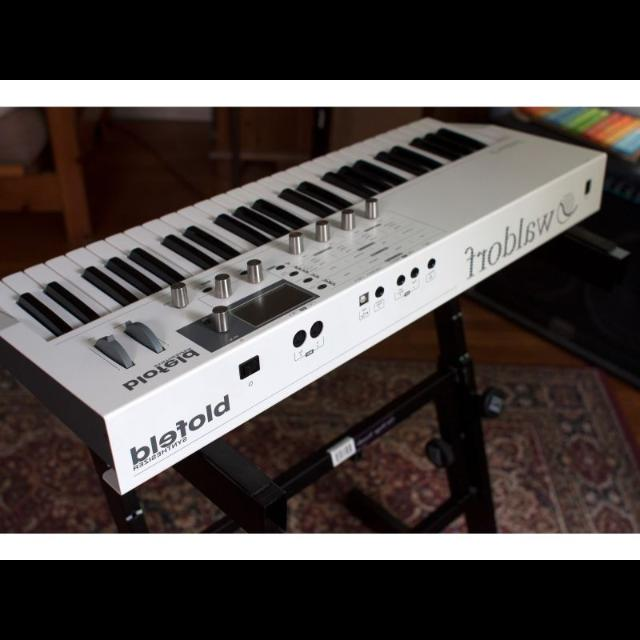Electronic-Keyboard: (23, 142, 625, 506)
